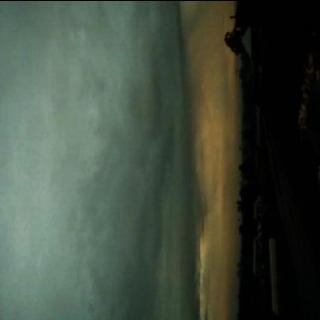Nimbostratus: (1, 0, 252, 320)
